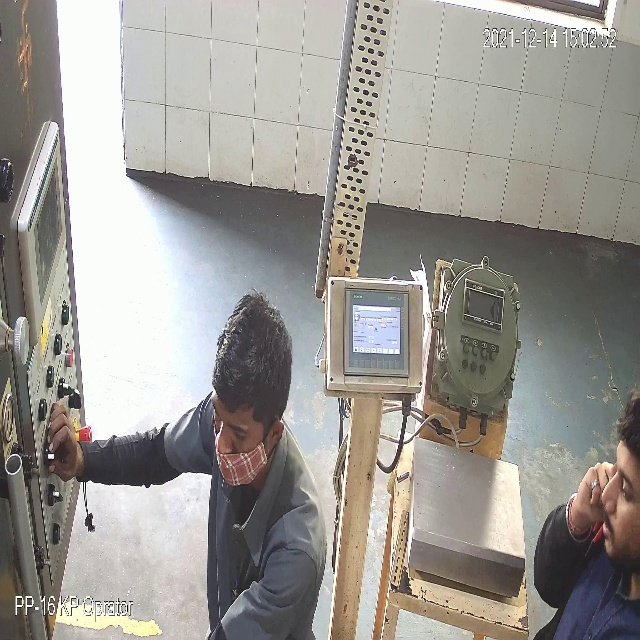Sin_gafas: (209, 405, 255, 442)
